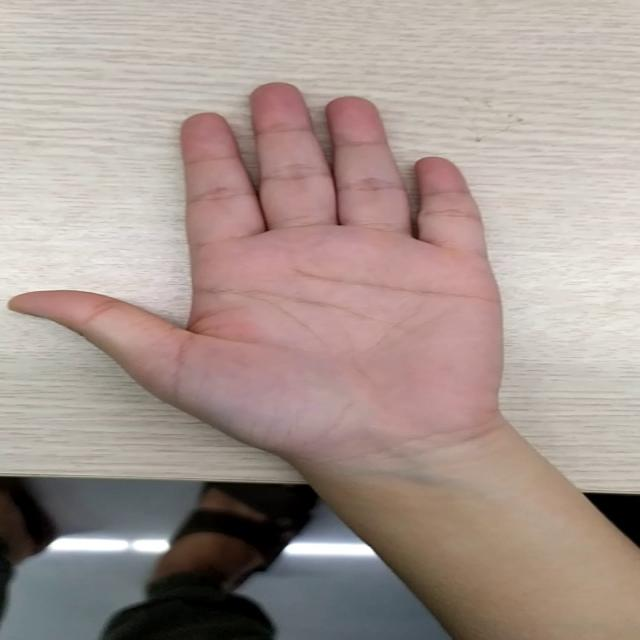hand: (54, 86, 533, 456)
